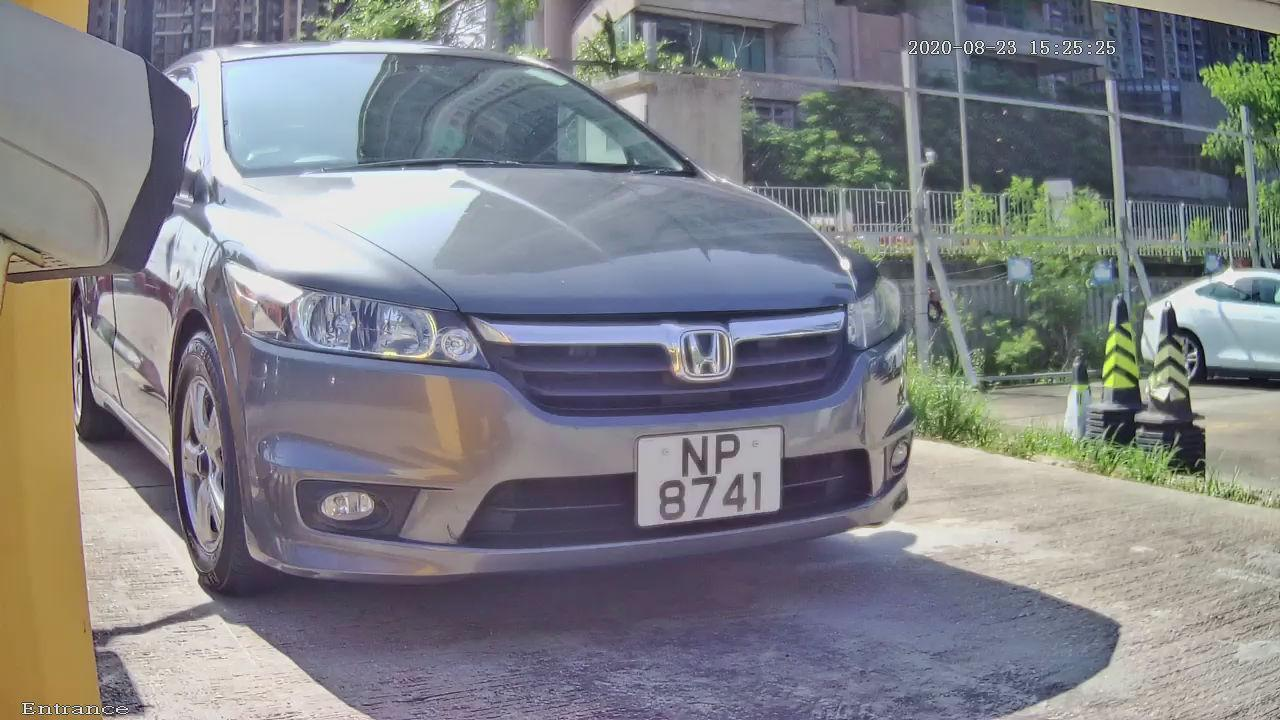Car: (29, 10, 1001, 653)
License Plate: (612, 412, 795, 541)
